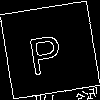P: (25, 25, 64, 77)
